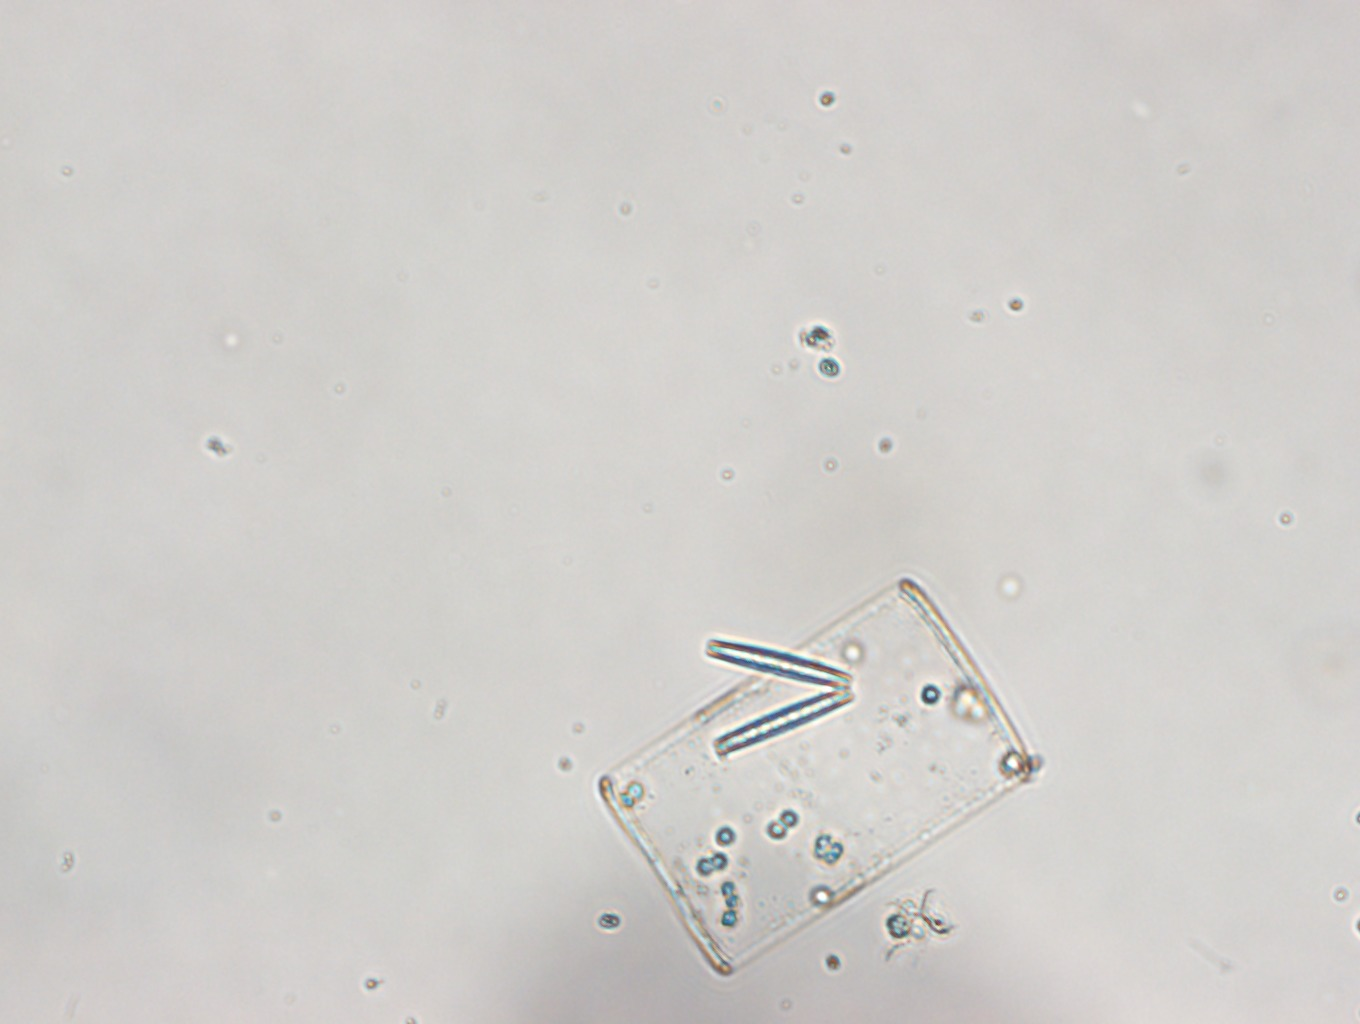guinardia flaccida: (581, 577, 1053, 979)
thalassionema frauenfeldii: (699, 629, 865, 757)
